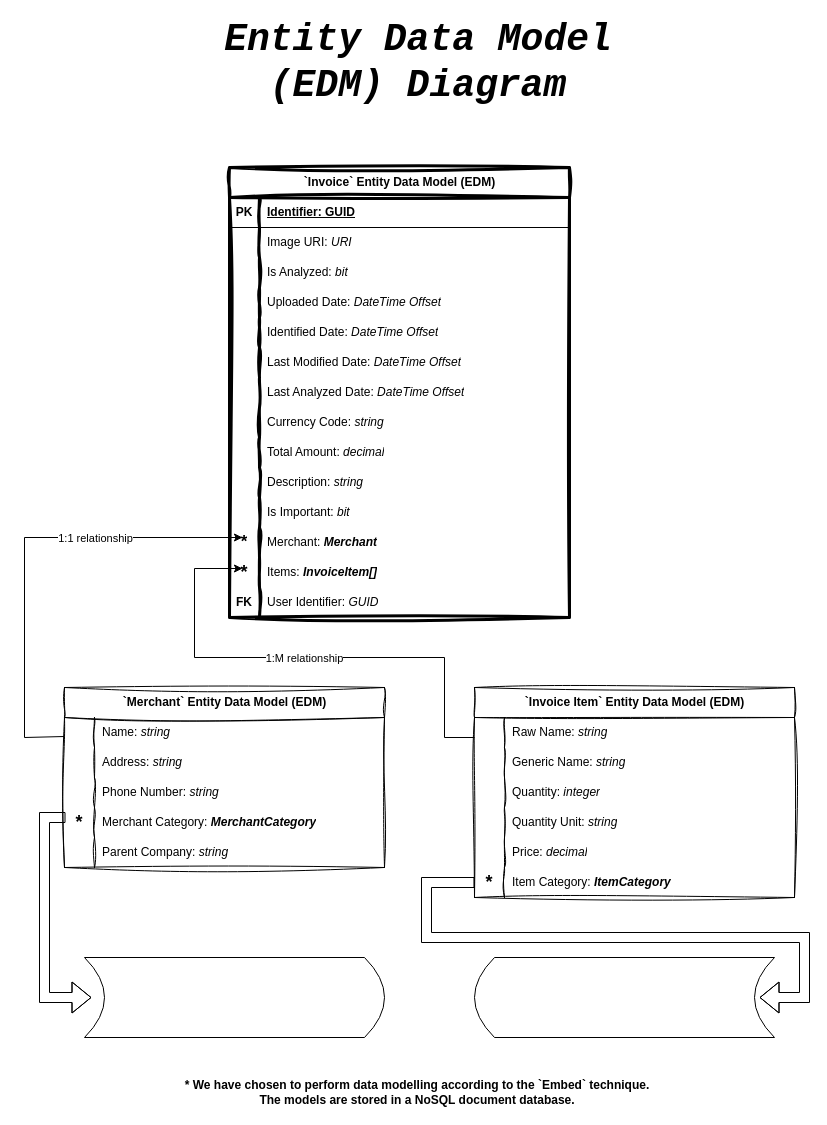
This 827x1125 diagram has some shape labels left out. The shapes that lost their labels are listed below. From the top down, each one's centre as x and y in pixels, then its label:
[234,997]: LOCAL_SHOP SUPERMARKET HYPERMARKET ONLINE_SHOP OTHER
[624,997]: GROCERIES DAIRY MEAT .... OTHER
